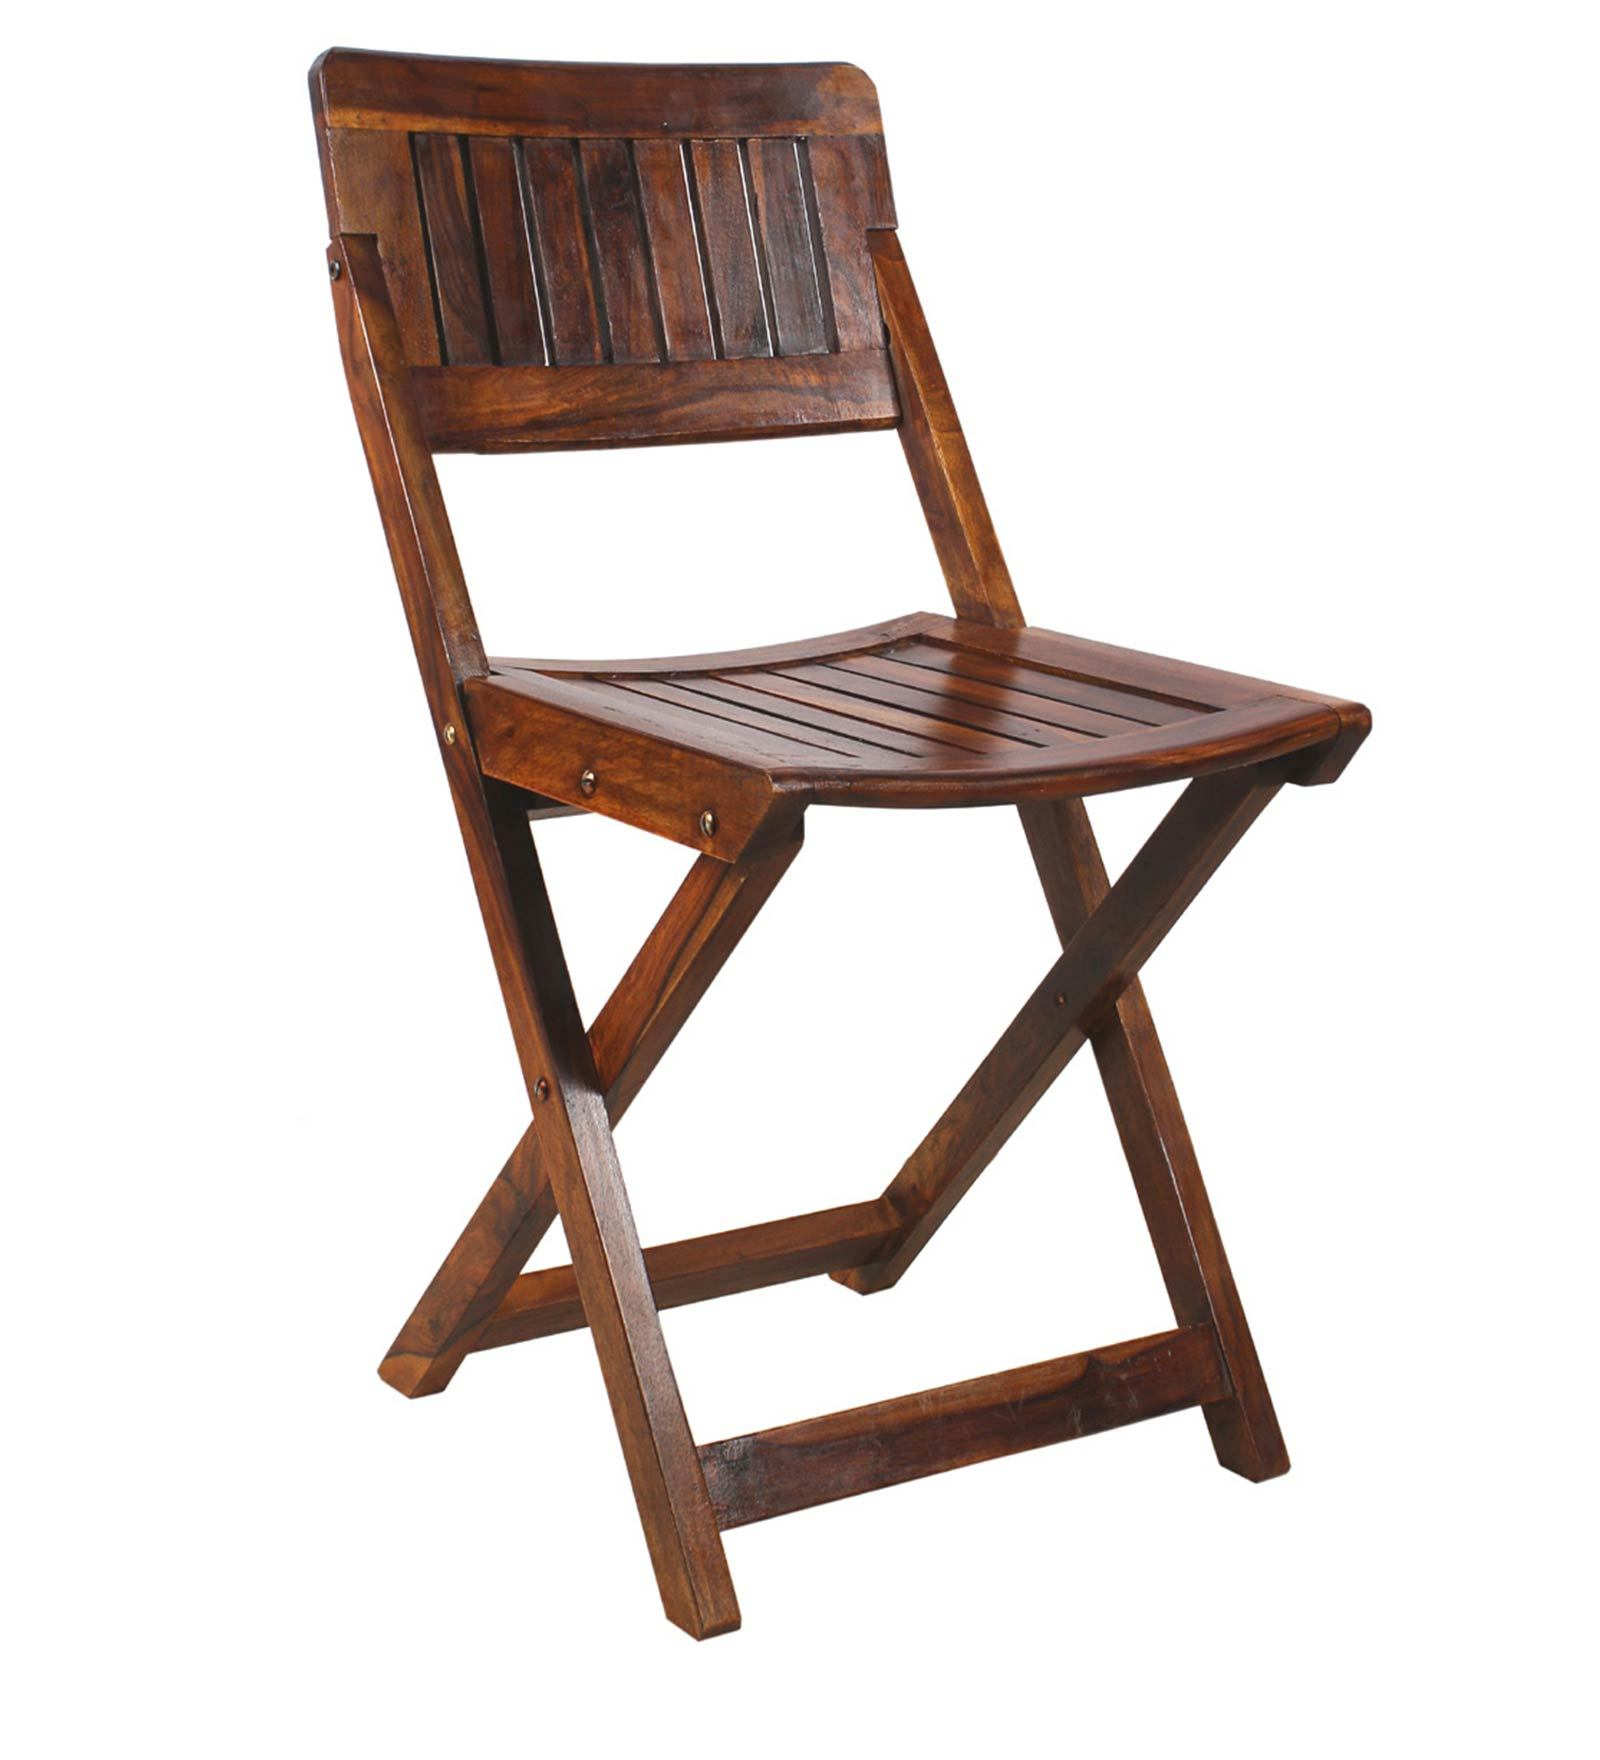Sheesham Wood Folding Chair in Walnut Finish by VarEesha: (251, 18, 1330, 1680)
